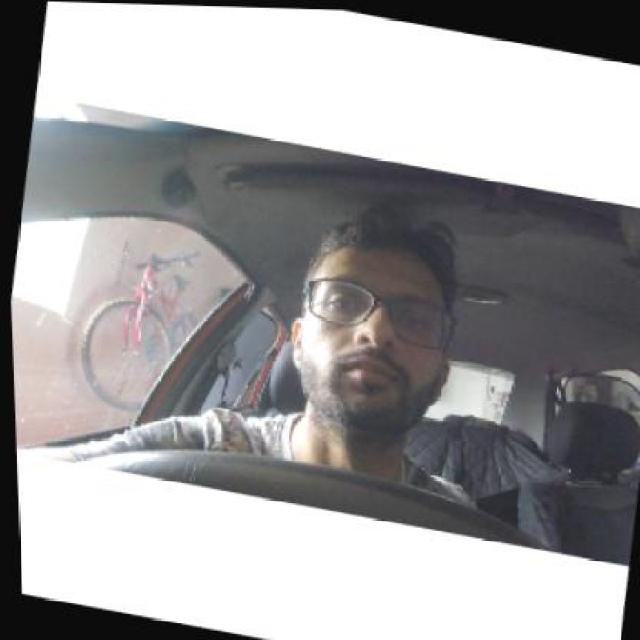person: (293, 225, 444, 410)
